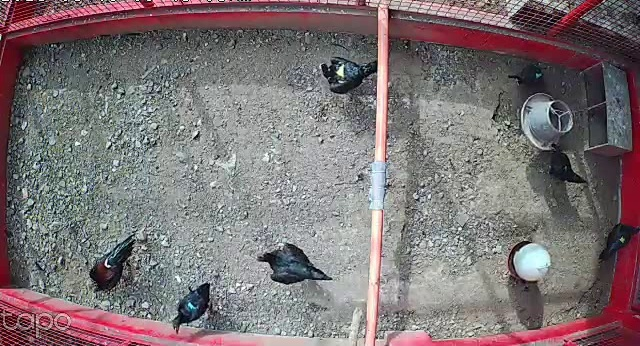Chicken: (256, 236, 331, 285), (316, 52, 383, 96), (167, 276, 216, 334), (537, 143, 592, 185), (596, 216, 640, 266), (507, 55, 553, 95)
Rooster: (82, 230, 148, 300)
Saddle_Color_Blue: (186, 302, 197, 311)
Saddle_Color_Yellow: (335, 63, 345, 83)
